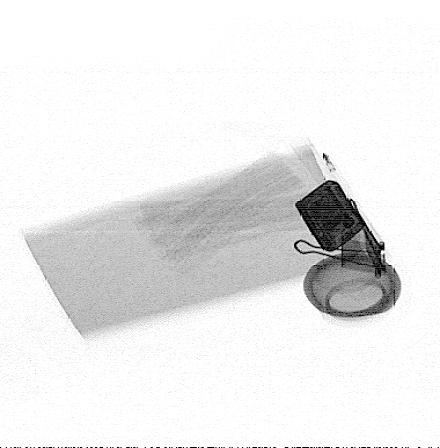Lighter: (294, 179, 366, 252)
